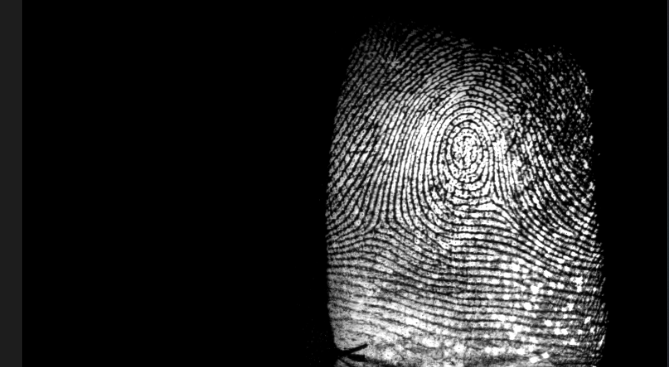deltas: (472, 179, 513, 228), (357, 200, 401, 244)
nucleo: (440, 124, 486, 170)
